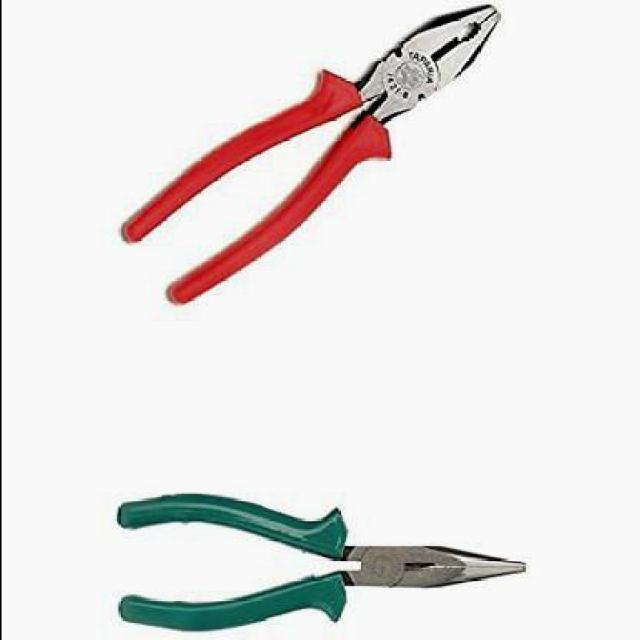pliers: (115, 492, 528, 636)
